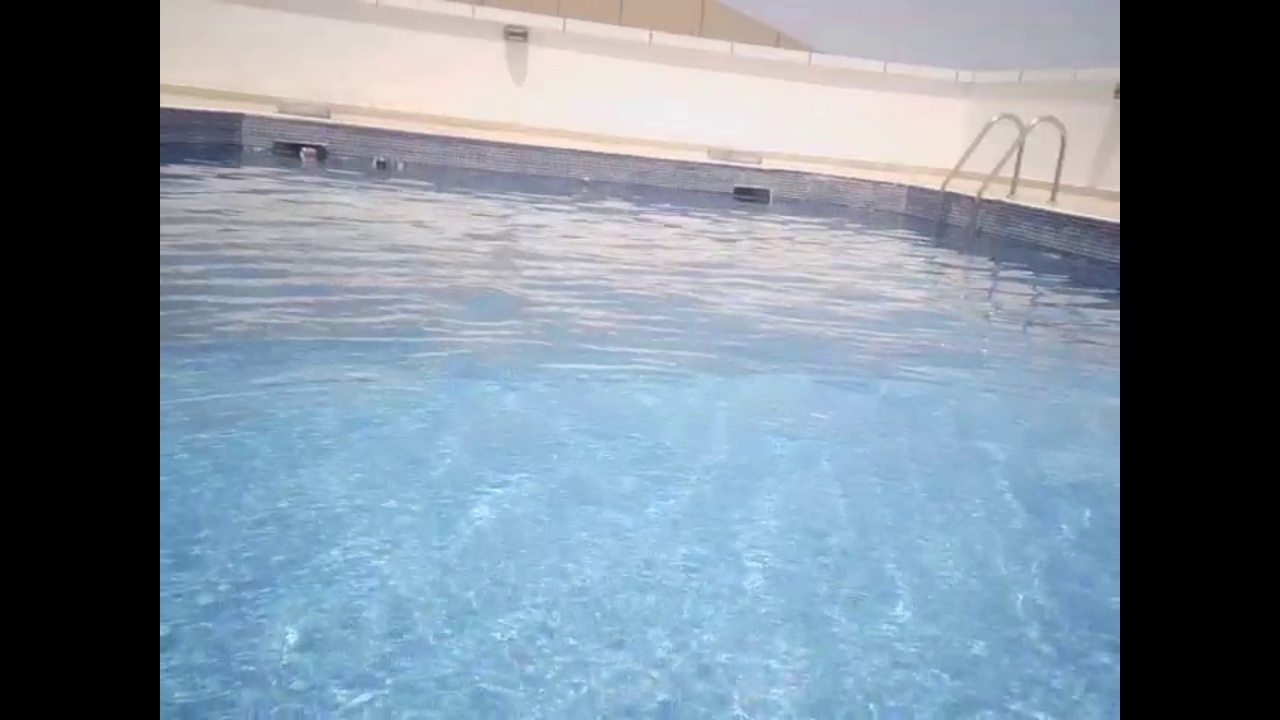debris: (366, 153, 390, 171), (298, 142, 319, 162), (393, 159, 408, 174), (577, 172, 592, 186)
